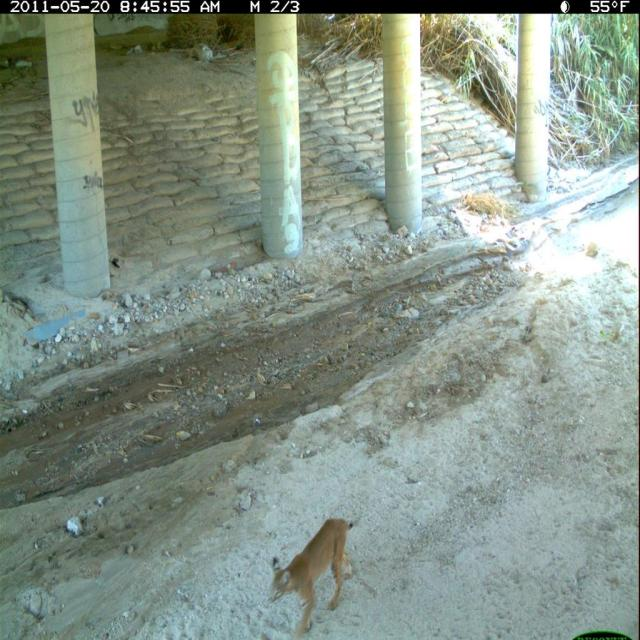bobcat: (269, 516, 356, 638)
